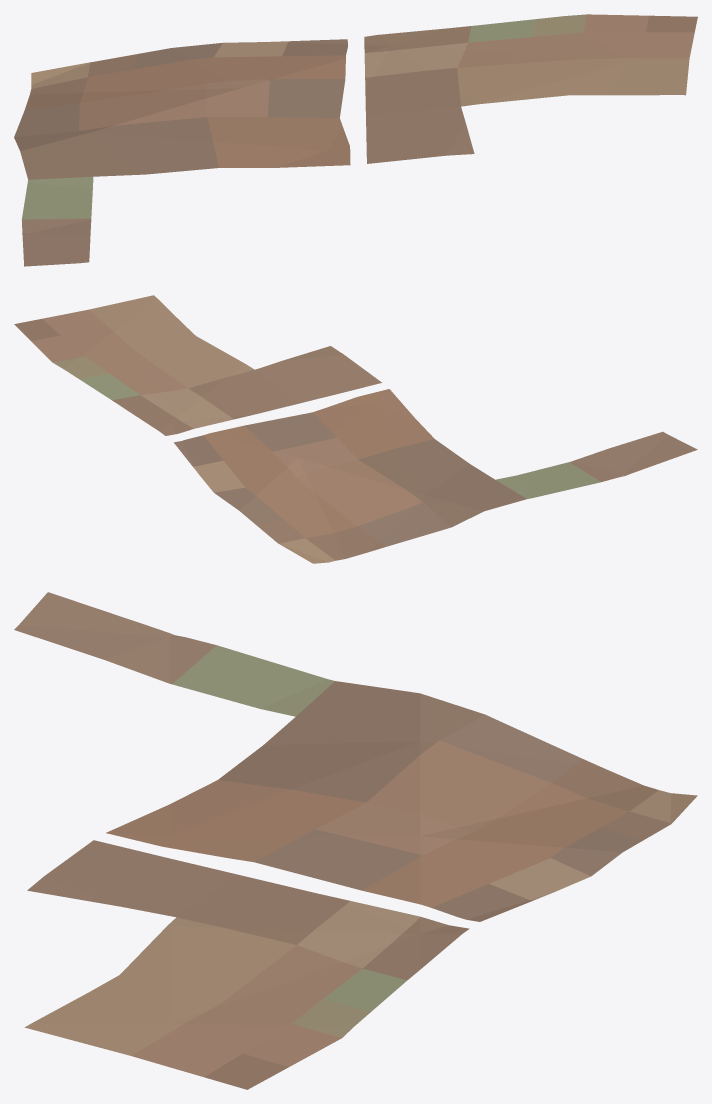
The model's file is farm_-30_-24_soil.glb.
The picture shows the model from 3 angles, top to bottom: view 1: azimuth 30°, elevation 25°; view 2: azimuth 150°, elevation 25°; view 3: azimuth 270°, elevation 25°; orthographic projection. The views are drawn at different scales.
Parts seen in each view (by area): view 1: geometry_0; view 2: geometry_0; view 3: geometry_0.
Part boxes in pixels (<box>): geometry_0: <box>14,14,697,266</box>; geometry_0: <box>14,295,697,563</box>; geometry_0: <box>14,592,697,1089</box>.
Bounding box in the file's own units: 396 × 24.78 × 218.
